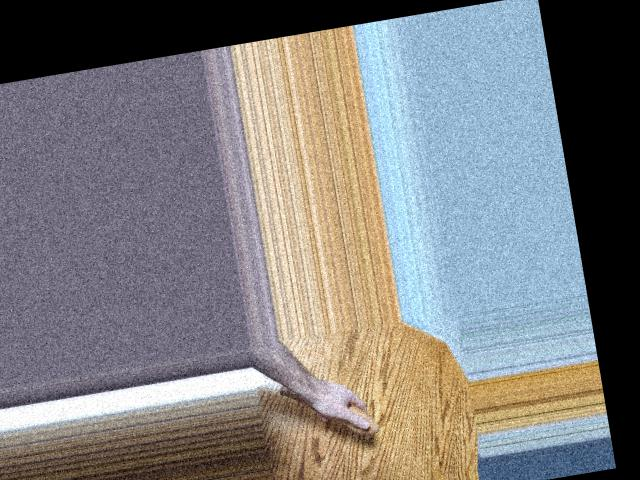sweet_potato: (275, 367, 381, 447)
